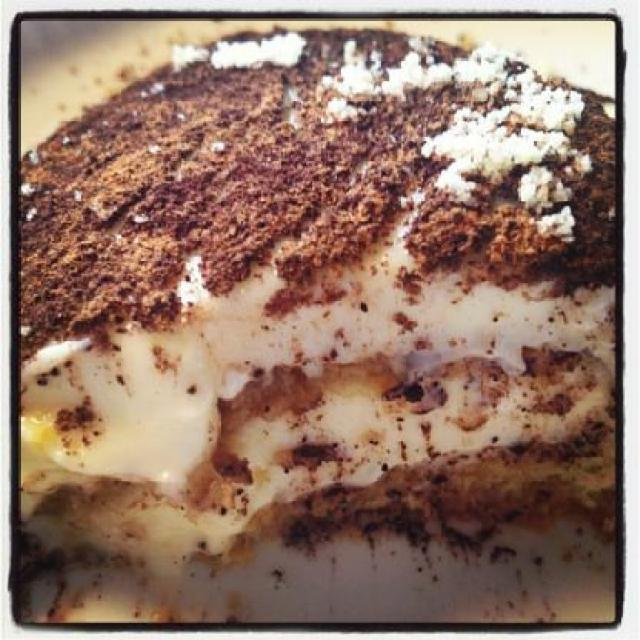Tiramisu: (29, 31, 617, 524)
